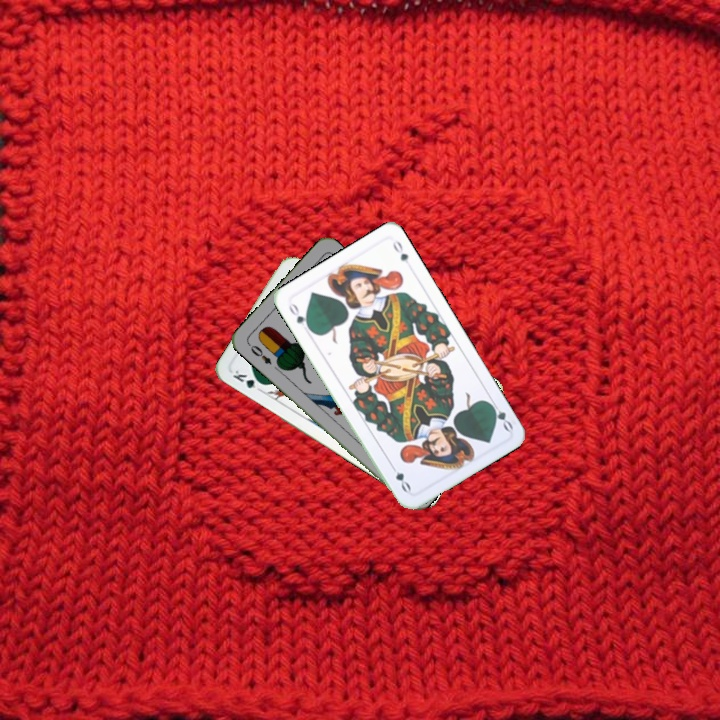EO: (244, 340, 274, 367)
GK: (229, 366, 267, 394)
GO: (485, 396, 516, 434), (284, 299, 314, 334)
